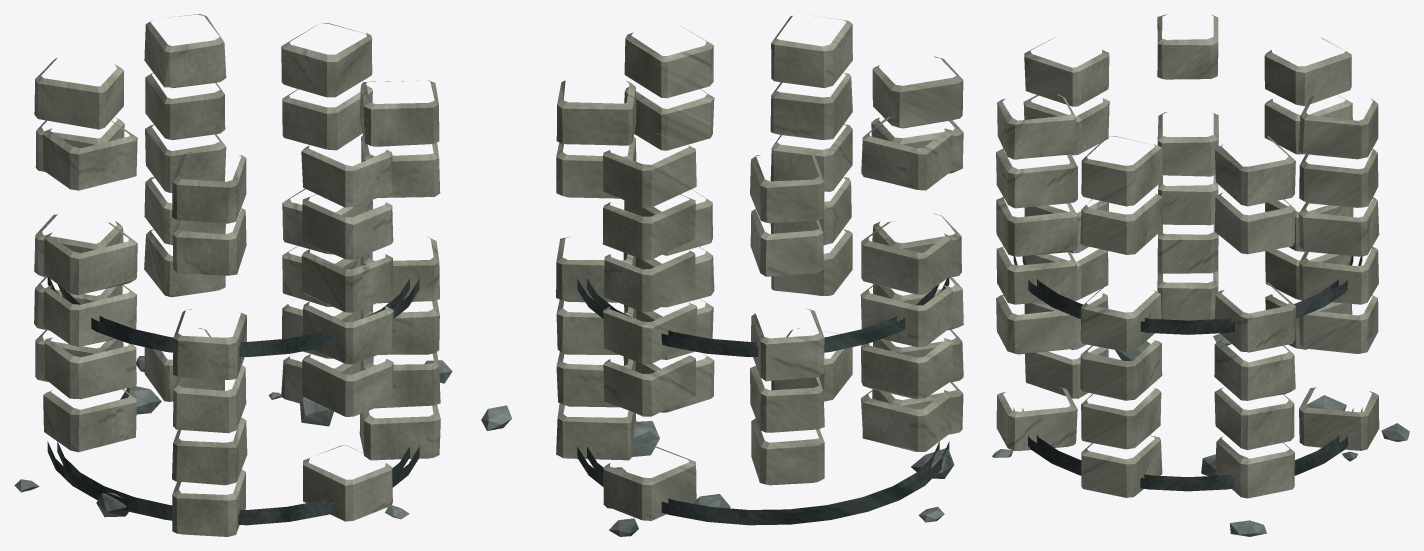
File: 0405_ruined_tower_05.glb
3 renders of one model, left to right at view 1: azimuth 30°, elevation 25°; view 2: azimuth 150°, elevation 25°; view 3: azimuth 270°, elevation 25°, orthographic. The views are drawn at different scales.
Parts seen in each view (by area): view 1: stone_light, stone_dark, stone; view 2: stone_light, stone_dark, stone; view 3: stone_light, stone_dark, stone.
Part boxes in pixels (<box>): stone_light: <box>34,14,440,536</box>; stone_dark: <box>47,277,419,525</box>; stone: <box>14,356,452,519</box>; stone_light: <box>556,15,963,520</box>; stone_dark: <box>577,277,949,525</box>; stone: <box>481,405,954,536</box>; stone_light: <box>996,14,1379,498</box>; stone_dark: <box>1013,256,1362,491</box>; stone: <box>992,333,1409,536</box>.
Bounding box in the file's own units: 3.73 × 2.94 × 3.27.
Materials: 3 (3 with a texture image).
